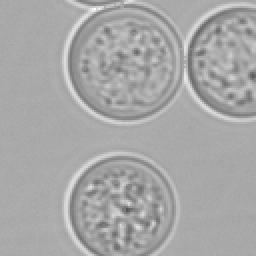picoshell: (66, 4, 180, 124), (64, 148, 178, 254), (184, 4, 254, 120), (64, 0, 118, 8)
